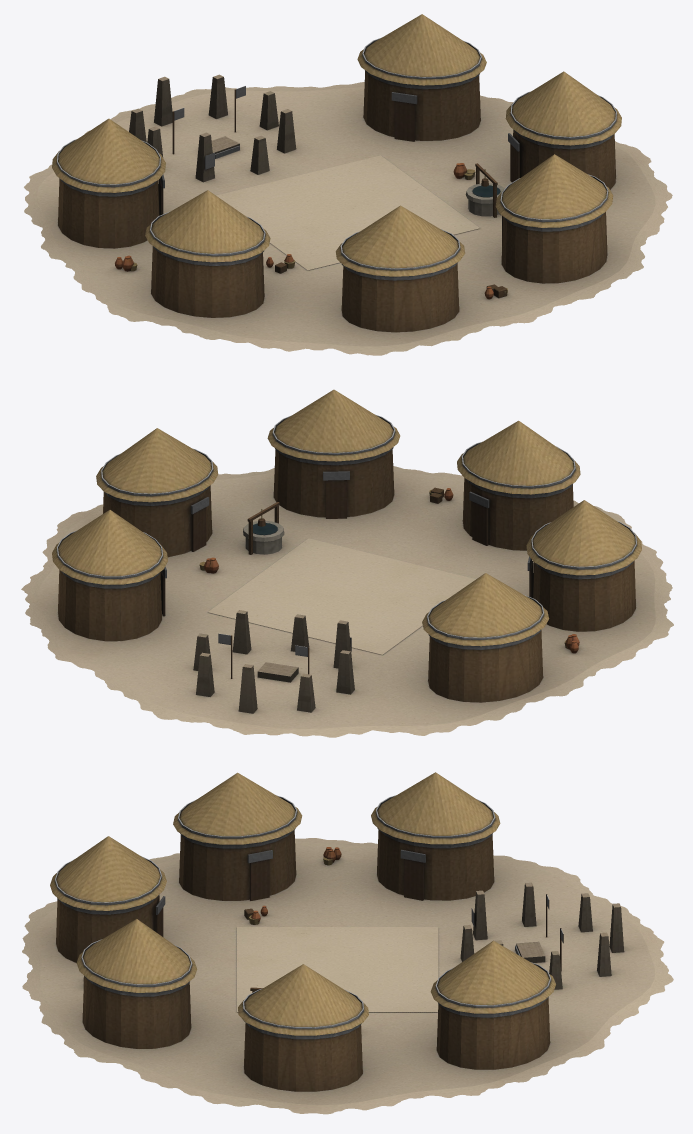
File: bronze-town-small-b-maghreb.glb
The picture shows the model from 3 angles, top to bottom: view 1: azimuth 30°, elevation 25°; view 2: azimuth 150°, elevation 25°; view 3: azimuth 270°, elevation 25°; orthographic projection.
Visible parts, largest first — view 1: LOD0; view 2: LOD0; view 3: LOD0.
Part boxes in pixels (x1,y1,x2,y2): LOD0: (24, 14, 672, 355); LOD0: (21, 389, 673, 737); LOD0: (22, 772, 673, 1114).
Size of what is drawn, in the model's own units: 4.02 by 0.728 by 3.97.
Materials: 3 (3 with a texture image).
